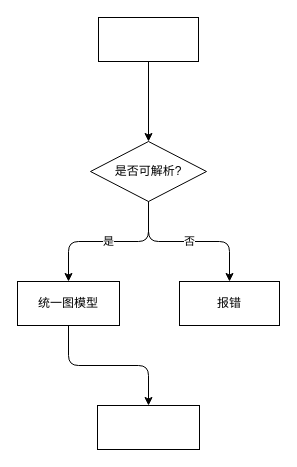
The diagram is 297 pixels wide and 467 high, and some of its shapes have lost their labels. Each missing label, with the centre of its shape:
"多格式导出" belongs at pixel 148 427.
"需求输入" belongs at pixel 148 39.
